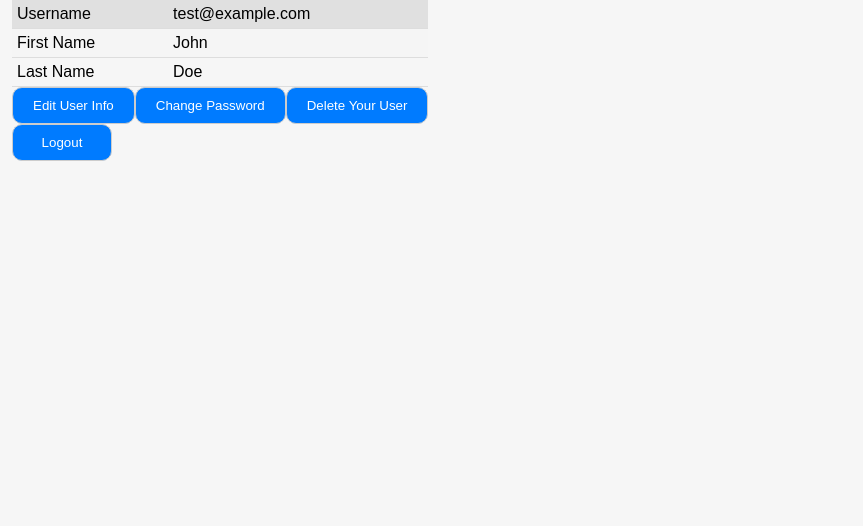
Test: Profile component › opens and closes chane password popup
Expected: the cell with test id "email" is shown, [168, 0, 428, 28]
Click the button "Change Password" at [210, 106], box [135, 87, 286, 124]
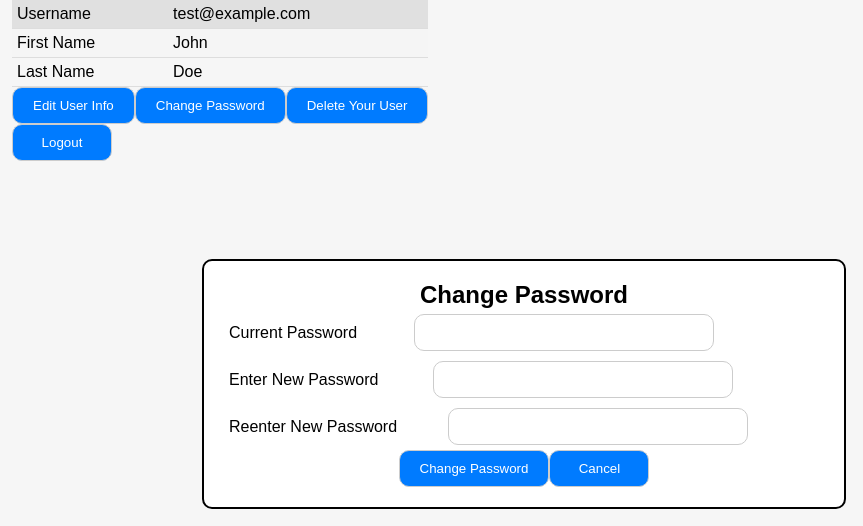
Expected: the button with test id "changeBtn" is shown, [398, 450, 549, 487]
Click the button with test id "cancelBtn" at [600, 468], box [550, 450, 650, 487]
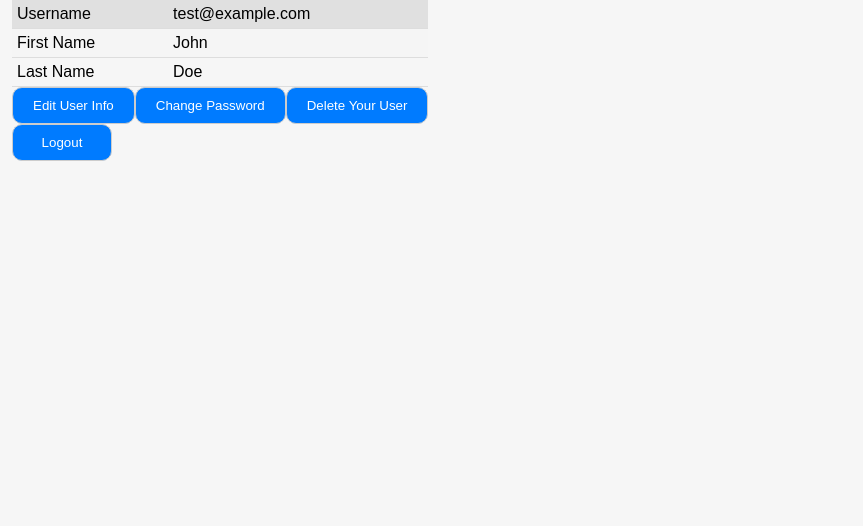
Expected: the button with test id "changeBtn" is gone
